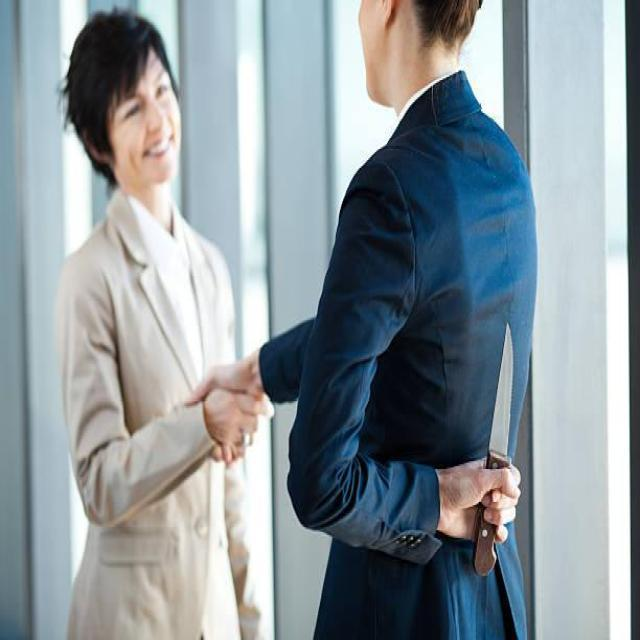faca: (472, 316, 528, 580)
